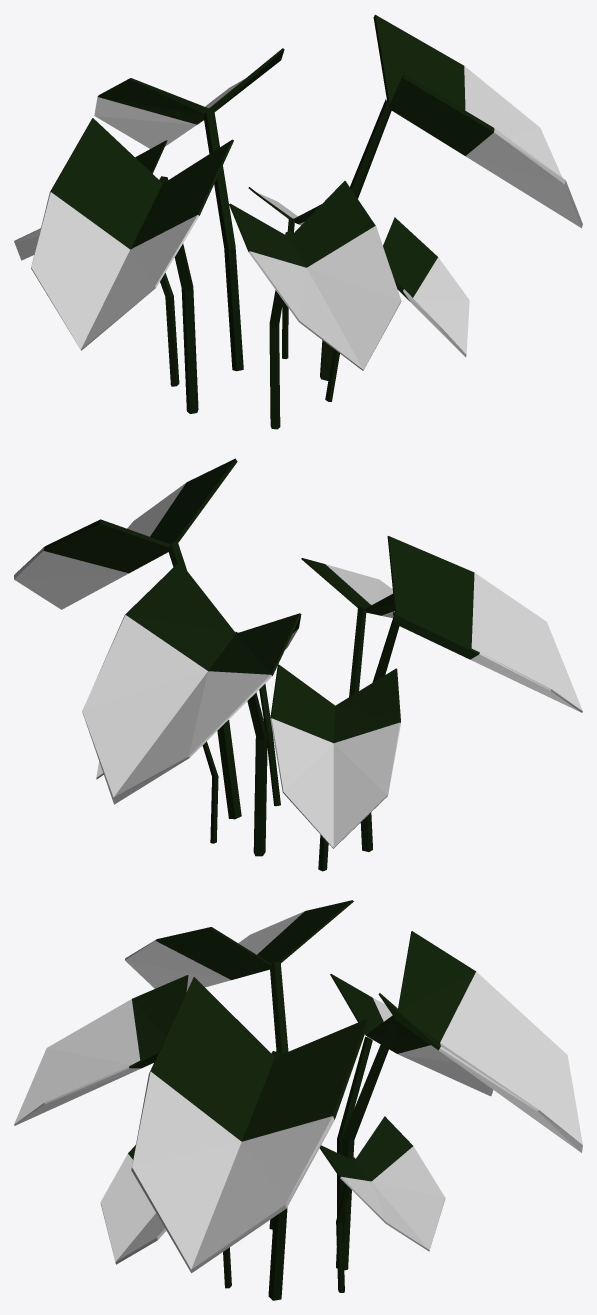
The model's file is AnthuriumWSnow_01.obj.
3 renders of one model, top to bottom at view 1: azimuth 30°, elevation 25°; view 2: azimuth 150°, elevation 25°; view 3: azimuth 270°, elevation 25°, orthographic. The views are drawn at different scales.
Visible parts, largest first — view 1: AnthuriumWSnow_01_Plane.004; view 2: AnthuriumWSnow_01_Plane.004; view 3: AnthuriumWSnow_01_Plane.004.
Boxes of the visible parts, x1,y1,x2,y2 form: AnthuriumWSnow_01_Plane.004: [14, 14, 582, 429]; AnthuriumWSnow_01_Plane.004: [14, 458, 582, 871]; AnthuriumWSnow_01_Plane.004: [14, 900, 582, 1300].
Bounding box in the file's own units: 2.32 × 1.37 × 2.07.
